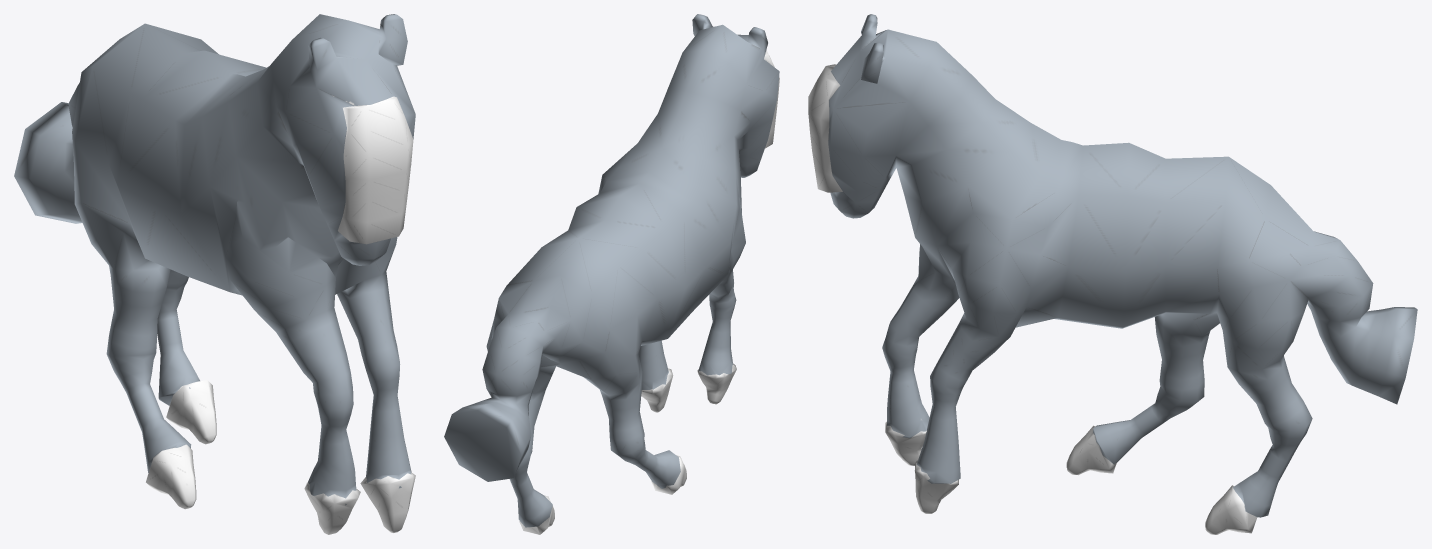
The model's file is medieval-horse.fbx.
3 renders of one model, left to right at view 1: azimuth 30°, elevation 25°; view 2: azimuth 150°, elevation 25°; view 3: azimuth 270°, elevation 25°, orthographic. The views are drawn at different scales.
Visible parts, largest first — view 1: unamed; view 2: unamed; view 3: unamed.
Part boxes in pixels (<box>): unamed: <box>14,14,415,534</box>; unamed: <box>444,14,779,534</box>; unamed: <box>808,14,1417,534</box>.
Bounding box in the file's own units: 0.3029 × 0.8152 × 0.9309.
1 material, 1 textured.
